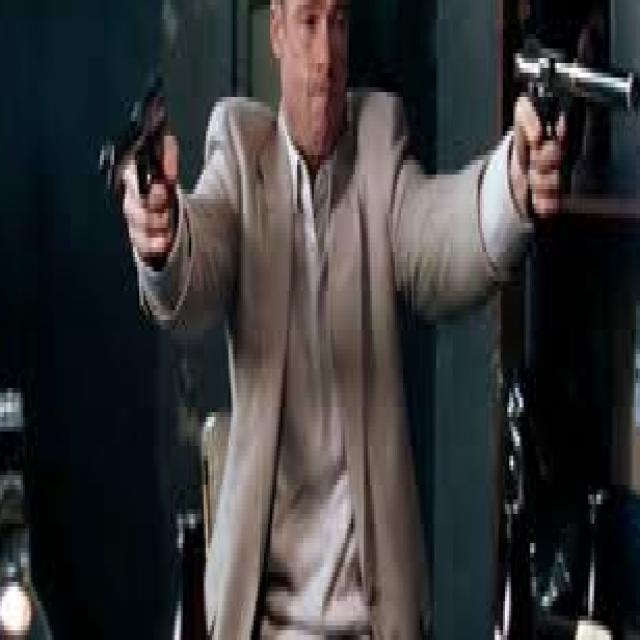gun: (489, 0, 640, 213), (85, 47, 196, 290)
